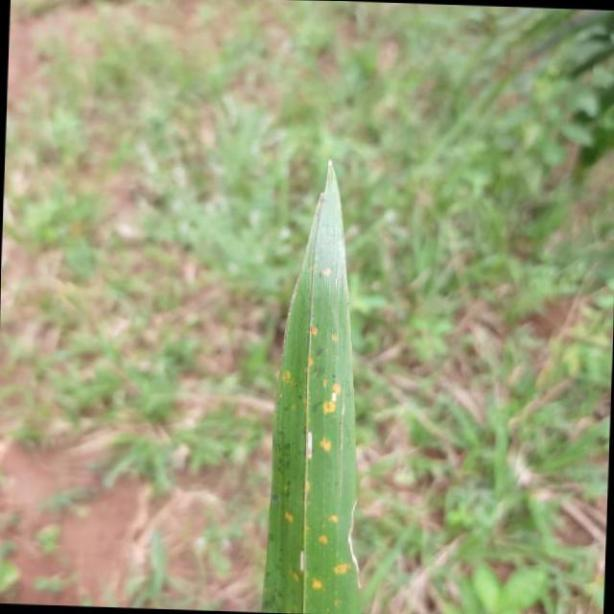Kalium: (261, 115, 366, 614)
